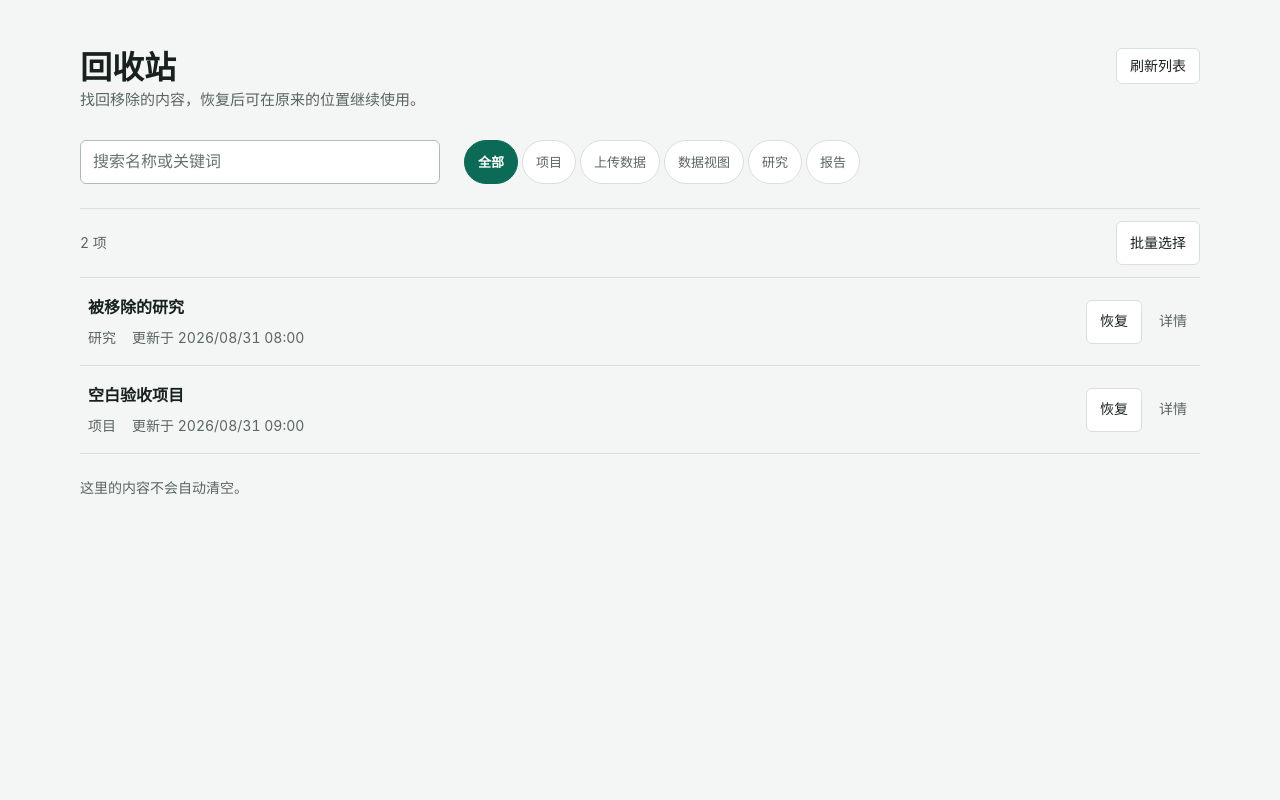
Test: bounds a stalled refresh and ignores its late response after recovery
Expected: the heading "空白验收项目" is shown, [88,385,184,405]
Click the button "刷新列表". click: (1158, 66)
box: [1116,48,1200,84]
Wait 10000 ms
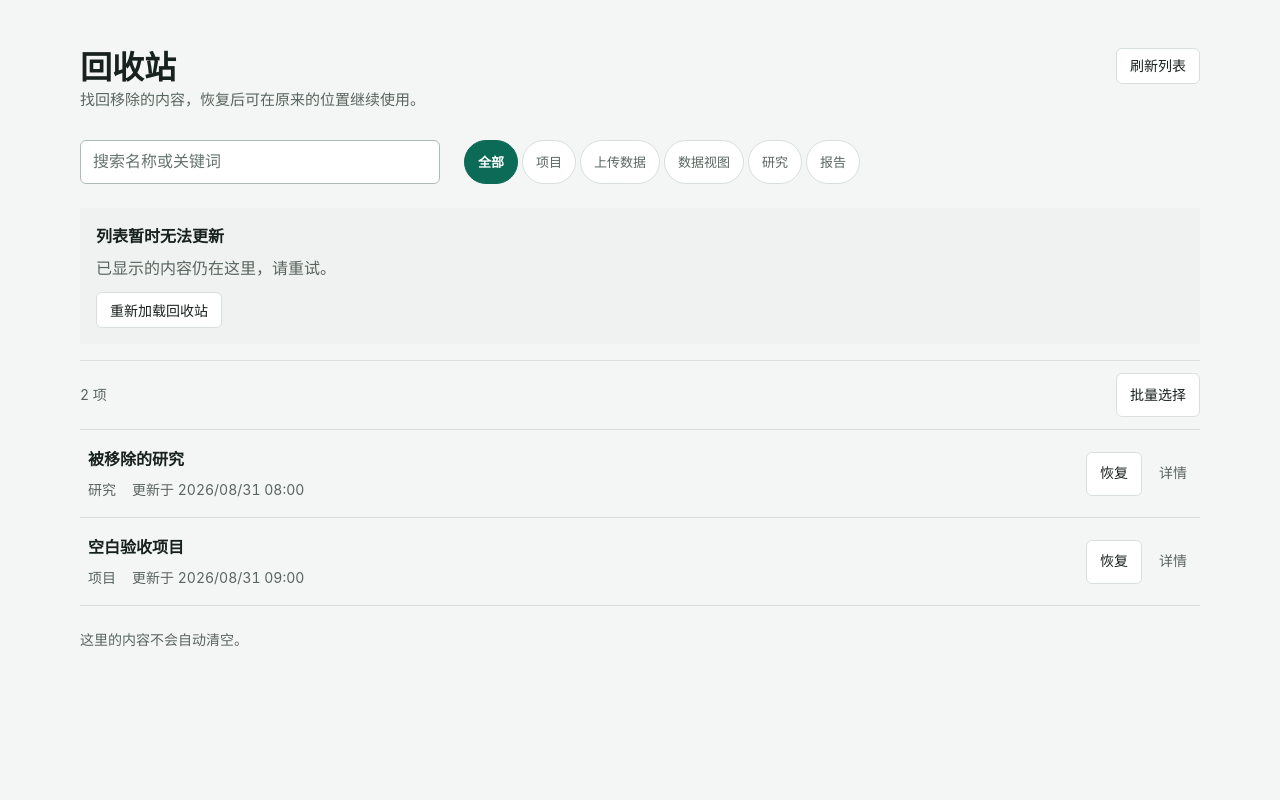
Expected: the heading "空白验收项目" is shown, [88,537,184,557]
Now the text "列表暂时无法更新" is shown, box [96,226,224,246]
Click the button "重新加载回收站". click: (159, 310)
box: [96,292,222,328]
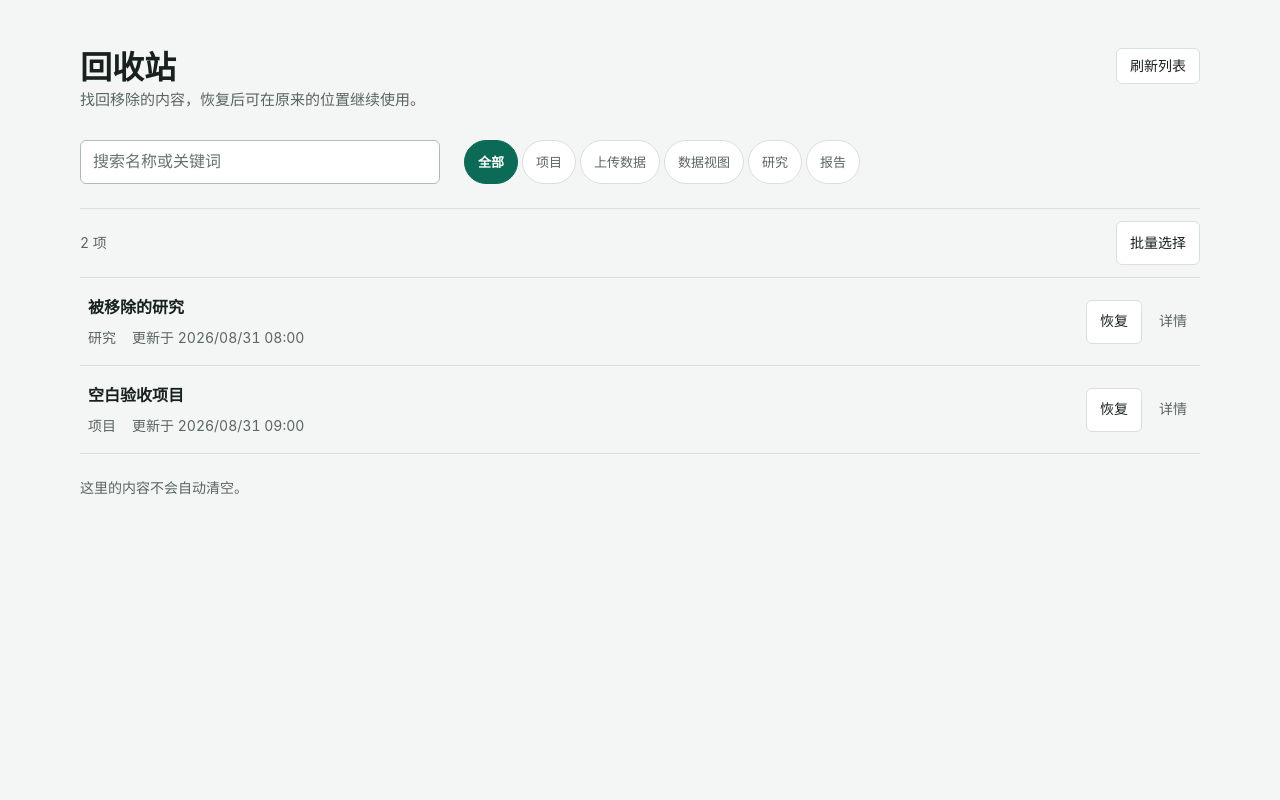
Expected: the heading "空白验收项目" is shown, [88,385,184,405]
Now the text "列表暂时无法更新" is gone
